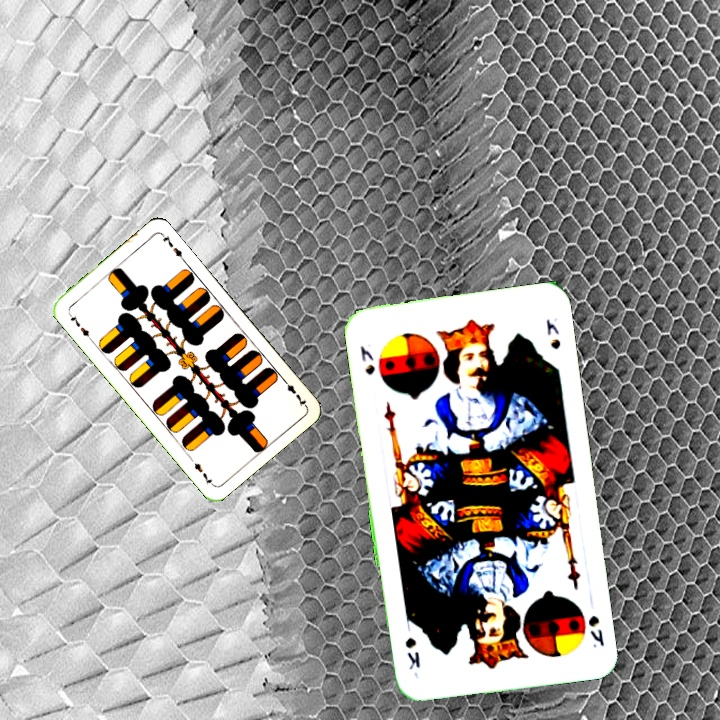E7: (64, 308, 94, 342), (279, 375, 309, 409)
SK: (584, 611, 607, 651), (356, 342, 377, 377)
